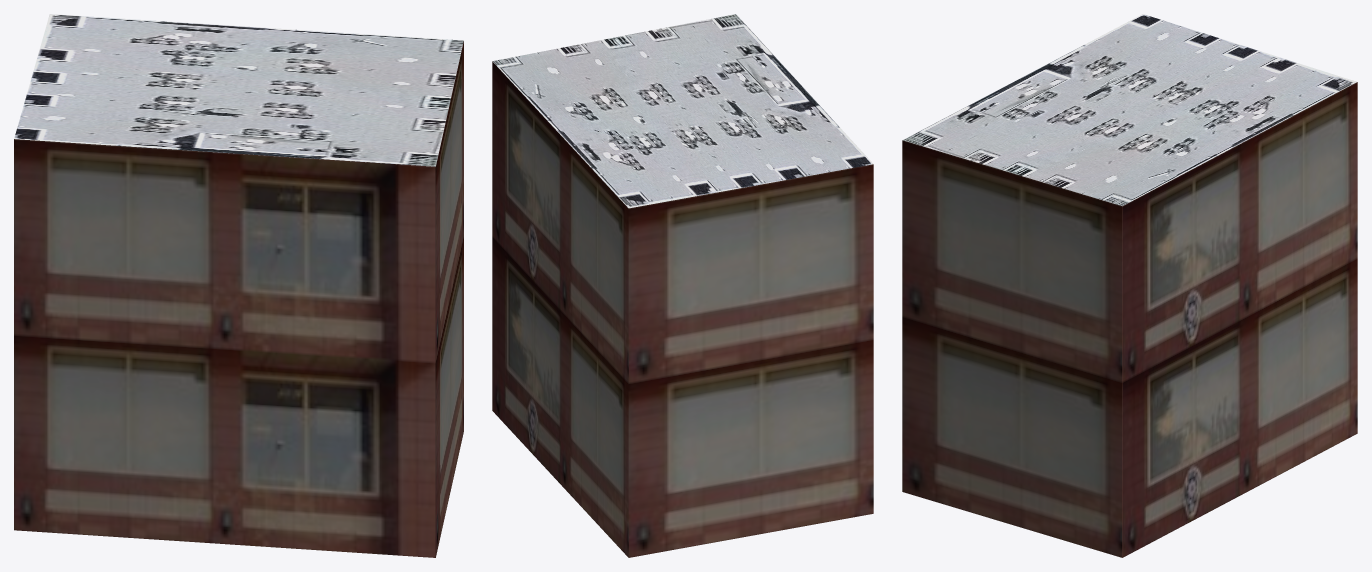
The model's file is ResTex__4628.fbx.
3 views of the same model, side by side, from view 1: azimuth 30°, elevation 25°; view 2: azimuth 150°, elevation 25°; view 3: azimuth 270°, elevation 25° (orthographic). The views are drawn at different scales.
Visible parts, largest first — view 1: CityEngineMaterial_13_m, CityEngineMaterial_2_m; view 2: CityEngineMaterial_13_m, CityEngineMaterial_2_m; view 3: CityEngineMaterial_13_m, CityEngineMaterial_2_m.
Part boxes in pixels (<box>): CityEngineMaterial_13_m: <box>14,41,463,557</box>; CityEngineMaterial_2_m: <box>14,14,463,166</box>; CityEngineMaterial_13_m: <box>492,61,873,557</box>; CityEngineMaterial_2_m: <box>492,14,873,208</box>; CityEngineMaterial_13_m: <box>902,82,1357,557</box>; CityEngineMaterial_2_m: <box>903,14,1356,206</box>.
Bounding box in the file's own units: 7.04 × 6 × 7.04.
Materials: 2 (2 with a texture image).
